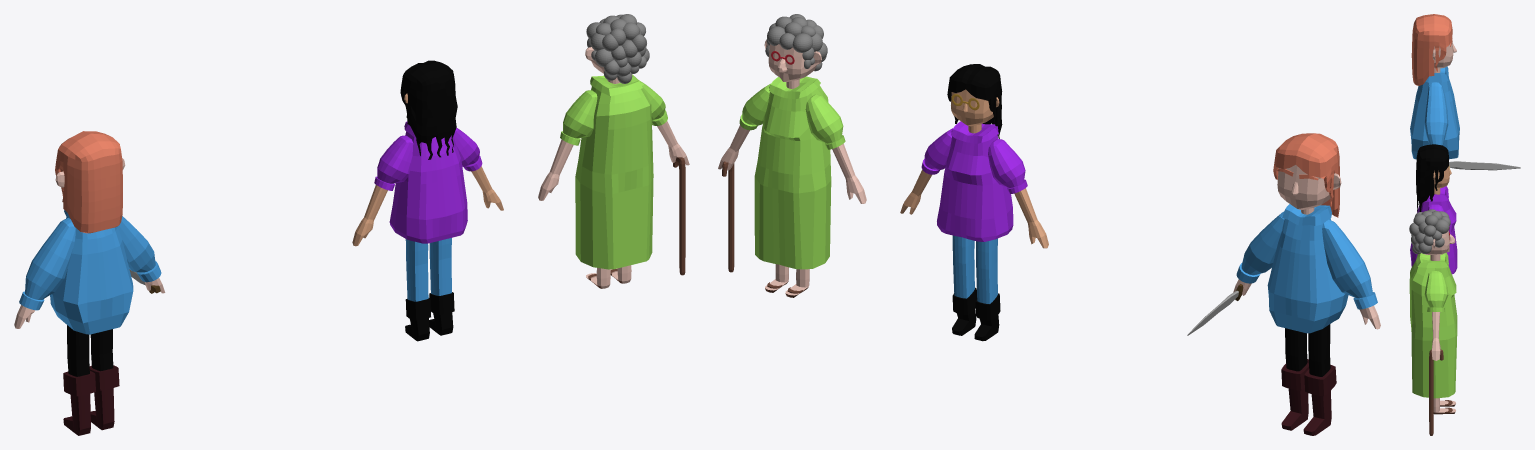
Rendered from mod_pers.fbx.
The picture shows the model from 3 angles, left to right: view 1: azimuth 30°, elevation 25°; view 2: azimuth 150°, elevation 25°; view 3: azimuth 270°, elevation 25°; orthographic projection. The views are drawn at different scales.
Visible parts, largest first — view 1: Cuerpo.003, Cuerpo.001, Cuerpo.002, Cabeza.001, Pierna.R.001, Pierna.R.002, Cabeza.002, Brazo.L.001, Brazo.R.002, Brazo.R.003, Brazo.R.001, Mano.R.001 (+3 smaller); view 2: Cuerpo.003, Cuerpo.001, Cuerpo.002, Pierna.R.001, Pierna.R.002, Cabeza.001, Cabeza.002, Brazo.L.001, Brazo.R.003, Brazo.R.002, Brazo.R.001, Mano.R.001 (+4 smaller); view 3: Cuerpo.003, Cabeza.001, Cuerpo.001, Cabeza.002, Brazo.R.001, Cuerpo.002, Brazo.R.003, Cube.004, Cube.003, Mano.R.004, Cube.002, Cabeza.003 (+3 smaller).
Part boxes in pixels (x1,y1,x2,y2): Cuerpo.003: (575,74,653,269); Cuerpo.001: (50,210,133,334); Cuerpo.002: (389,121,467,243); Cabeza.001: (55,131,122,233); Pierna.R.001: (63,325,119,435); Pierna.R.002: (405,238,454,341); Cabeza.002: (400,60,457,159); Brazo.L.001: (19,218,75,310); Brazo.R.002: (374,127,482,190); Brazo.R.003: (560,80,667,145); Brazo.R.001: (117,216,161,282); Mano.R.001: (352,166,503,246); Cuerpo.003: (754,76,831,269); Cuerpo.001: (1267,204,1348,333); Cuerpo.002: (937,121,1013,241); Pierna.R.001: (1281,324,1336,435); Pierna.R.002: (952,235,1000,341); Cabeza.001: (1273,133,1339,217); Cabeza.002: (947,64,1002,138); Brazo.L.001: (1322,219,1377,309); Brazo.R.003: (739,83,845,149); Brazo.R.002: (921,128,1027,193); Brazo.R.001: (1236,211,1284,283); Mano.R.001: (900,169,1048,248); Cuerpo.003: (1409,253,1457,398); Cabeza.001: (1411,14,1453,85); Cuerpo.001: (1410,66,1459,159); Cabeza.002: (1416,144,1449,211); Brazo.R.001: (1424,82,1448,146); Cuerpo.002: (1410,186,1457,274); Brazo.R.003: (1424,271,1448,311); Cube.004: (1449,161,1520,170); Cube.003: (1429,349,1443,435); Mano.R.004: (1431,312,1440,360); Cube.002: (1433,398,1455,414); Cabeza.003: (1424,230,1449,254).
Size of the model in its own units: 1037 by 433 by 202.
